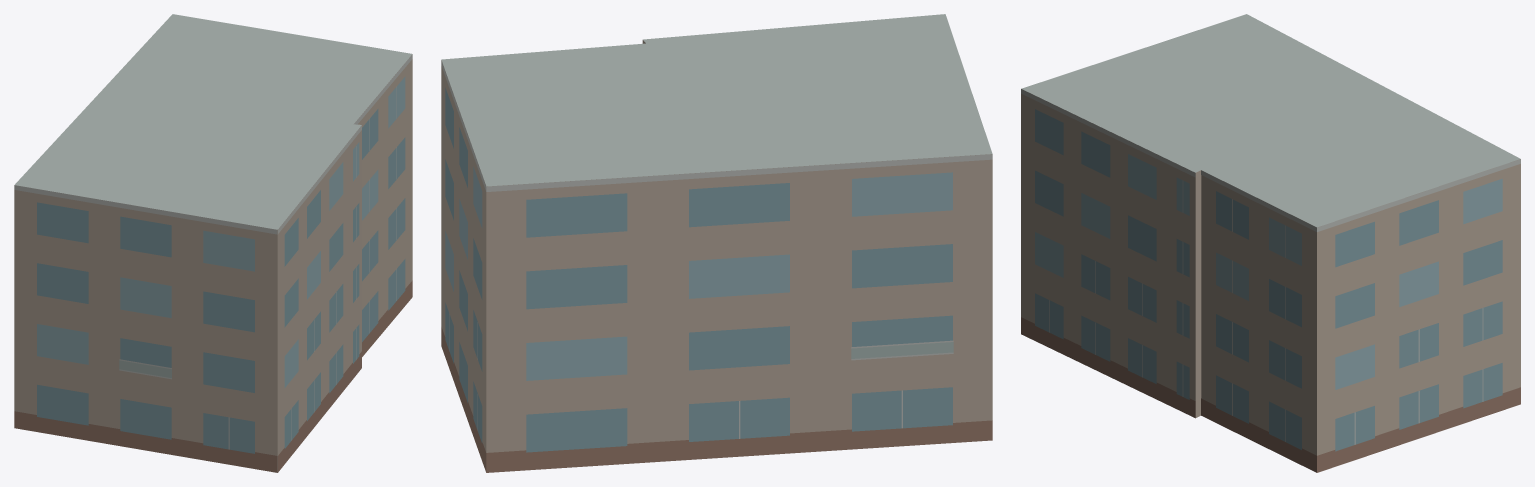
Rendered from survey-upis-32616525.glb.
The picture shows the model from 3 angles, left to right: view 1: azimuth 30°, elevation 25°; view 2: azimuth 150°, elevation 25°; view 3: azimuth 270°, elevation 25°; orthographic projection. The views are drawn at different scales.
Visible parts, largest first — view 1: survey-upis-32616525.tmp; view 2: survey-upis-32616525.tmp; view 3: survey-upis-32616525.tmp.
Part boxes in pixels (x1,y1,x2,y2): survey-upis-32616525.tmp: (14, 14, 412, 472); survey-upis-32616525.tmp: (441, 14, 992, 472); survey-upis-32616525.tmp: (1021, 14, 1520, 472).
Size of the model in its own units: 23.13 by 12.4 by 22.89.
